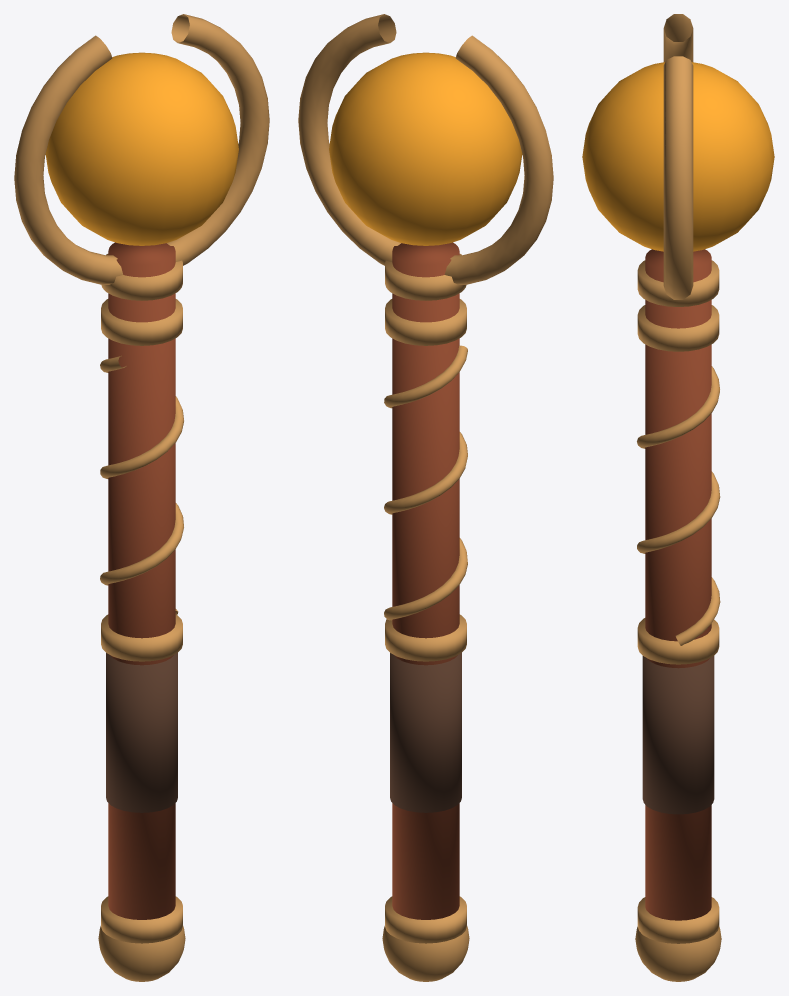
Rendered from explosif.glb.
The picture shows the model from 3 angles, left to right: view 1: azimuth 30°, elevation 25°; view 2: azimuth 150°, elevation 25°; view 3: azimuth 270°, elevation 25°; orthographic projection.
Visible parts, largest first — view 1: Arme_explosif; view 2: Arme_explosif; view 3: Arme_explosif.
Boxes of the visible parts, bbox=[...] form: Arme_explosif: bbox=[14, 14, 269, 981]; Arme_explosif: bbox=[298, 14, 553, 981]; Arme_explosif: bbox=[582, 14, 774, 981].
Size of the model in its own units: 0.2328 by 0.844 by 0.156.
